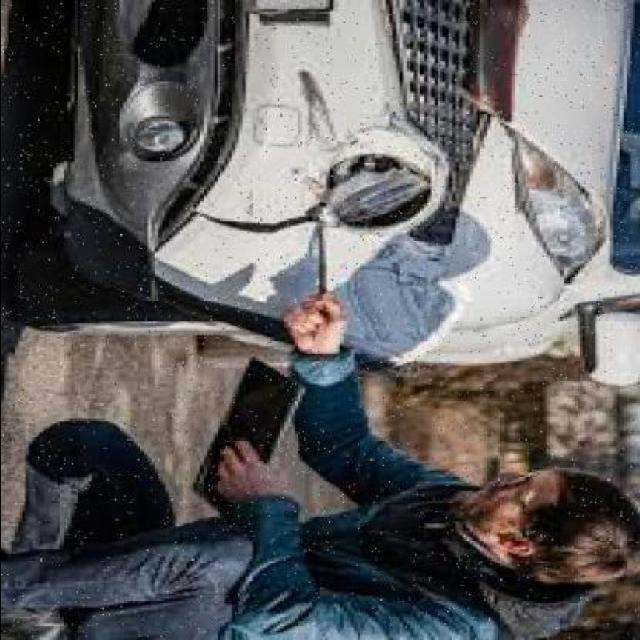front-bumper-dent: (43, 0, 410, 314)
